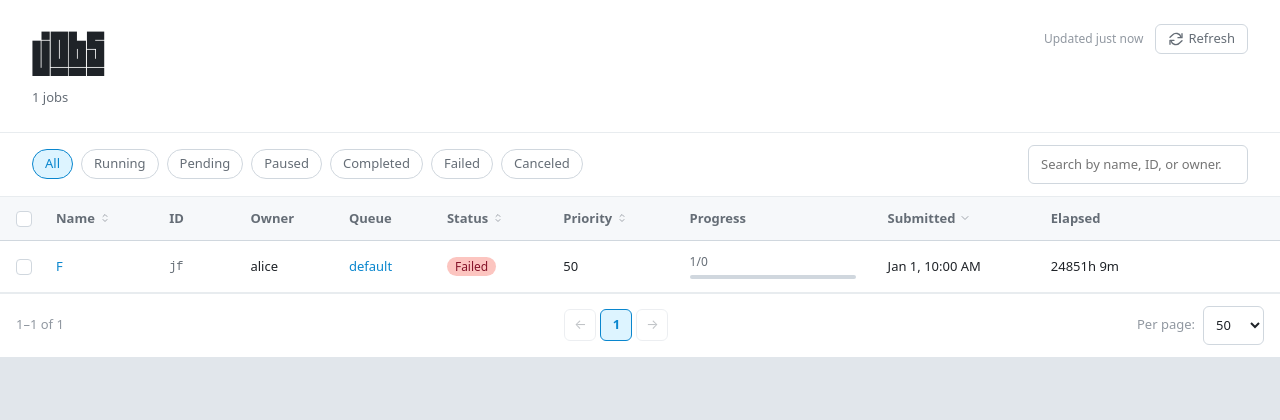
Test case: JobList › bulk retry › select-all includes retryable (terminal) jobs
The width and height of the screenshot is (1280, 420).
Click the checkbox named "Select all" at coordinates (24, 219), box x1=16 y1=211 x2=32 y2=227
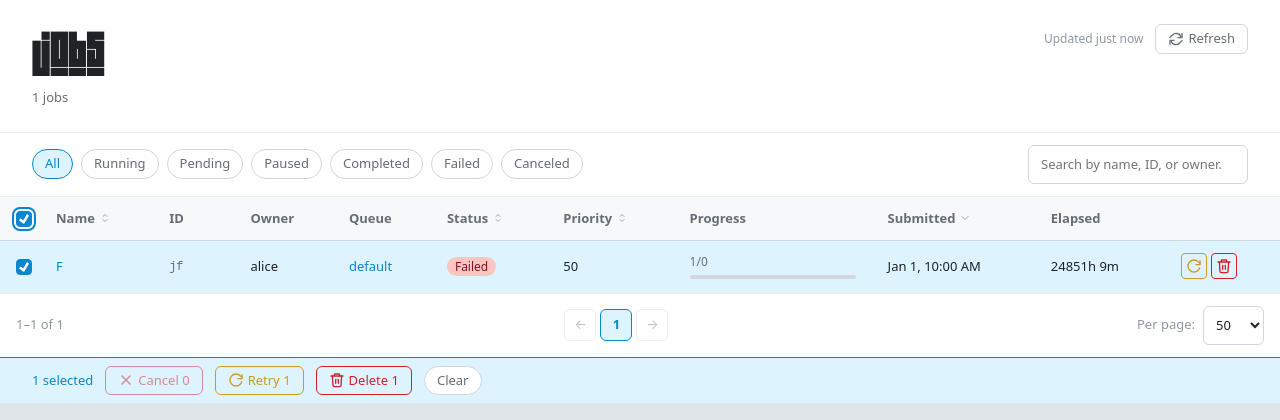
Expected: the checkbox named "Select job F" is checked, x1=16 y1=259 x2=32 y2=275
